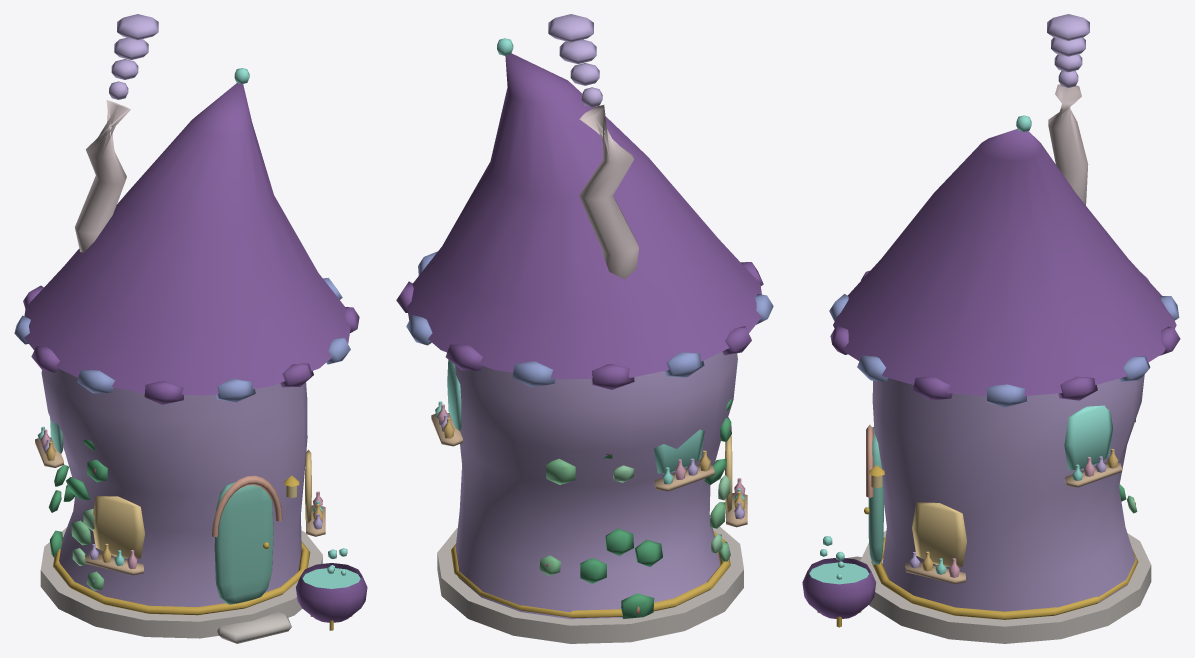
File: fae_potion_house.gltf
3 renders of one model, left to right at view 1: azimuth 30°, elevation 25°; view 2: azimuth 150°, elevation 25°; view 3: azimuth 270°, elevation 25°, orthographic. The views are drawn at different scales.
Visible parts, largest first — view 1: fae_potion_house; view 2: fae_potion_house; view 3: fae_potion_house.
Part boxes in pixels (box(x1,y1,x2,y2)): fae_potion_house: box(14, 14, 367, 643); fae_potion_house: box(396, 14, 773, 643); fae_potion_house: box(802, 14, 1180, 643).
Size of what is drawn, in the model's own units: 5.61 by 9.65 by 5.94.
